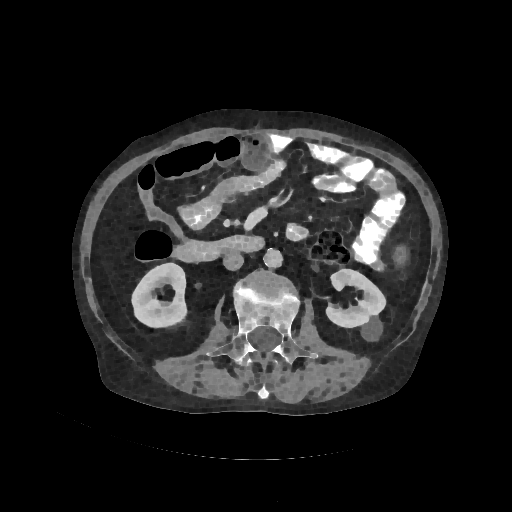Lesion: (358, 313, 387, 346)
